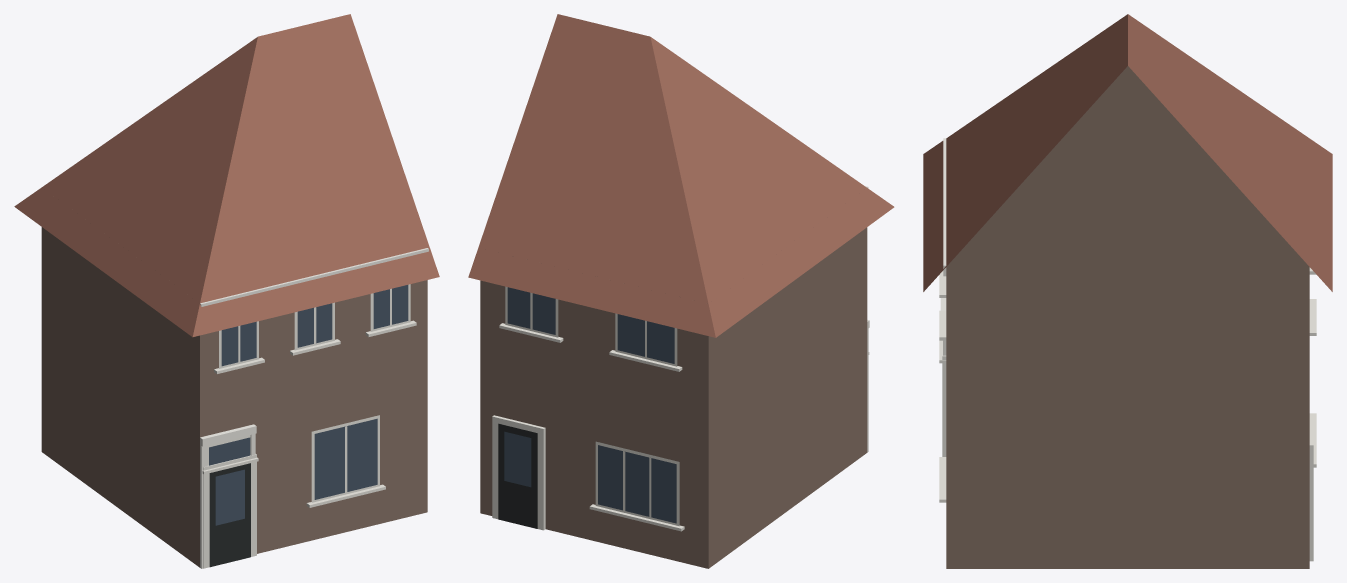
Rendered from nn-row-small__small-grey__2__hip__long__solid__endL.glb.
3 renders of one model, left to right at view 1: azimuth 30°, elevation 25°; view 2: azimuth 150°, elevation 25°; view 3: azimuth 270°, elevation 25°, orthographic. The views are drawn at different scales.
Parts seen in each view (by area): view 1: nn-row-small__small-grey__2__hip__long__solid__endL; view 2: nn-row-small__small-grey__2__hip__long__solid__endL; view 3: nn-row-small__small-grey__2__hip__long__solid__endL.
Part boxes in pixels (x1,y1,x2,y2): nn-row-small__small-grey__2__hip__long__solid__endL: (14,14,439,568); nn-row-small__small-grey__2__hip__long__solid__endL: (468,14,894,568); nn-row-small__small-grey__2__hip__long__solid__endL: (923,14,1332,568).
Size of the model in its own units: 5.67 by 9.65 by 7.1.
